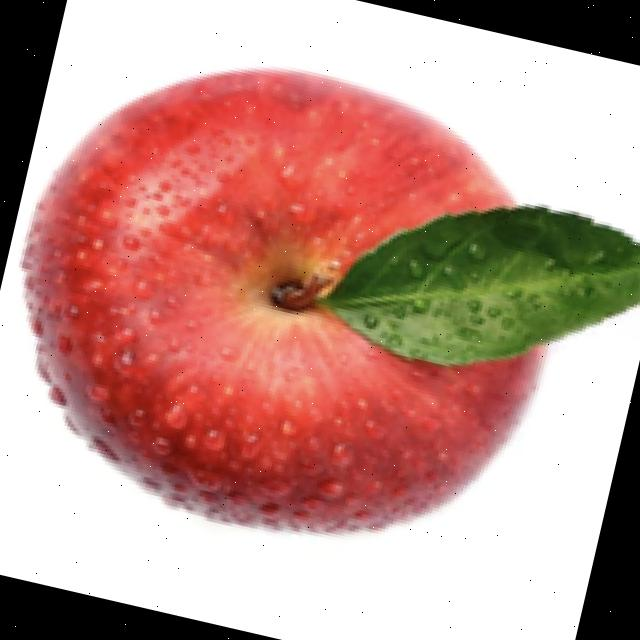apple: (17, 61, 640, 541)
